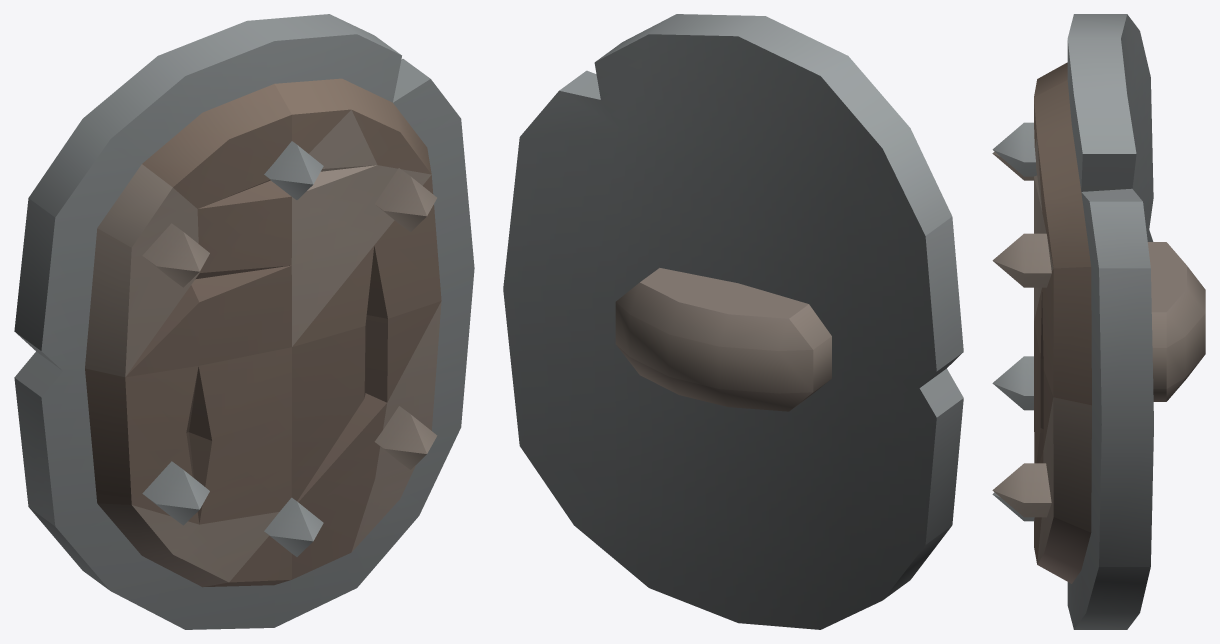
The model's file is Skeleton_Shield_Large_B.gltf.
The picture shows the model from 3 angles, left to right: view 1: azimuth 30°, elevation 25°; view 2: azimuth 150°, elevation 25°; view 3: azimuth 270°, elevation 25°; orthographic projection. The views are drawn at different scales.
Parts seen in each view (by area): view 1: Skeleton_Shield_Large_B; view 2: Skeleton_Shield_Large_B; view 3: Skeleton_Shield_Large_B.
Part boxes in pixels (x1,y1,x2,y2): Skeleton_Shield_Large_B: (14, 14, 474, 629); Skeleton_Shield_Large_B: (503, 14, 963, 629); Skeleton_Shield_Large_B: (992, 14, 1205, 629).
Bounding box in the file's own units: 0.8771 × 1.13 × 0.387.
1 material, 1 textured.
